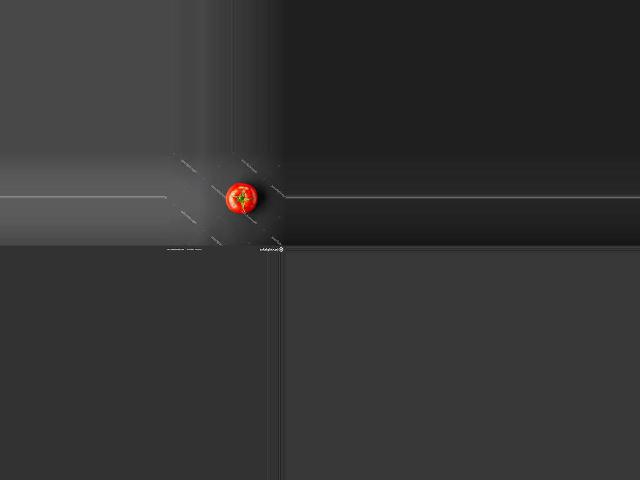tomato: (224, 182, 256, 214)
